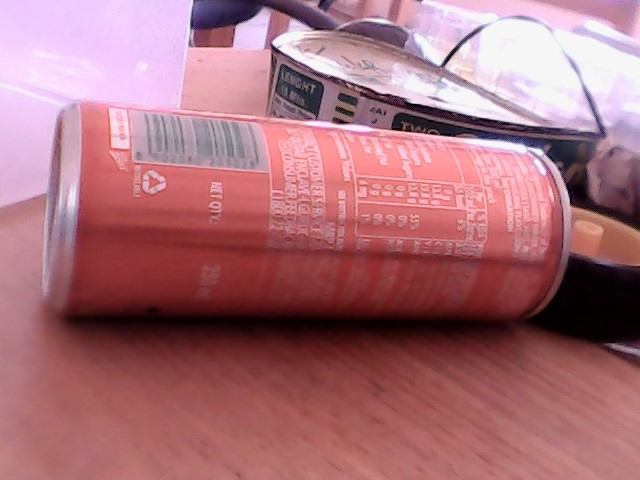Metal: (48, 105, 582, 333)
